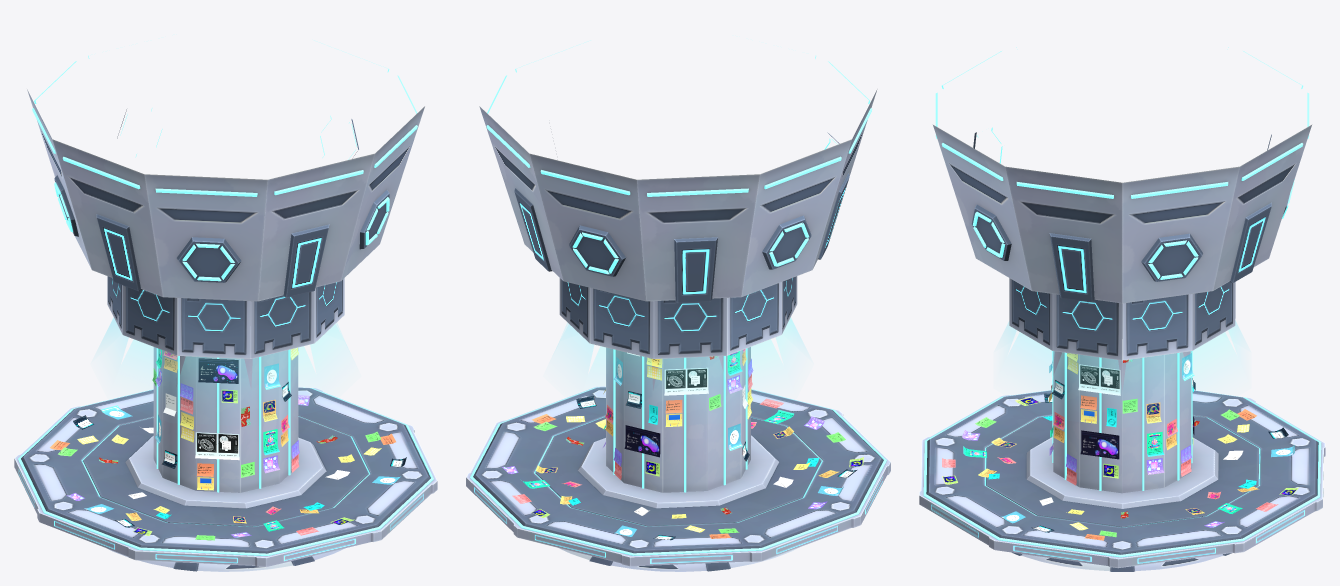
Rendered from obj_war.gltf.
3 renders of one model, left to right at view 1: azimuth 30°, elevation 25°; view 2: azimuth 150°, elevation 25°; view 3: azimuth 270°, elevation 25°, orthographic.
Visible parts, largest first — view 1: obj_war; view 2: obj_war; view 3: obj_war.
Boxes of the visible parts, x1,y1,x2,y2 form: obj_war: [14, 40, 437, 571]; obj_war: [466, 40, 890, 571]; obj_war: [919, 47, 1325, 571].
Size of what is drawn, in the model's own units: 10.67 by 11.29 by 10.21.
7 materials, 7 textured.
